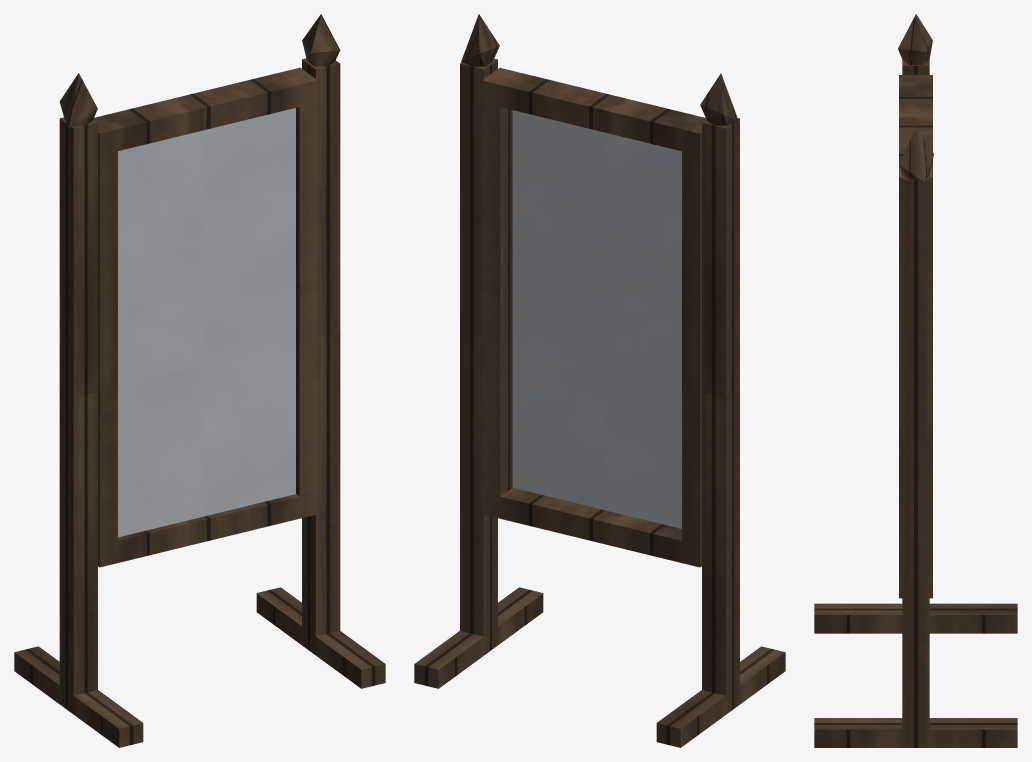
The model's file is Mirror_Standing_1_LOD2.gltf.
3 renders of one model, left to right at view 1: azimuth 30°, elevation 25°; view 2: azimuth 150°, elevation 25°; view 3: azimuth 270°, elevation 25°, orthographic. The views are drawn at different scales.
Parts seen in each view (by area): view 1: Mirror_Standing_1_LOD2; view 2: Mirror_Standing_1_LOD2; view 3: Mirror_Standing_1_LOD2.
Boxes of the visible parts, <box> form: Mirror_Standing_1_LOD2: <box>14,14,385,747</box>; Mirror_Standing_1_LOD2: <box>414,14,785,747</box>; Mirror_Standing_1_LOD2: <box>814,14,1017,747</box>.
Size of the model in its own units: 0.8912 by 2 by 0.6.
2 materials, 2 textured.
